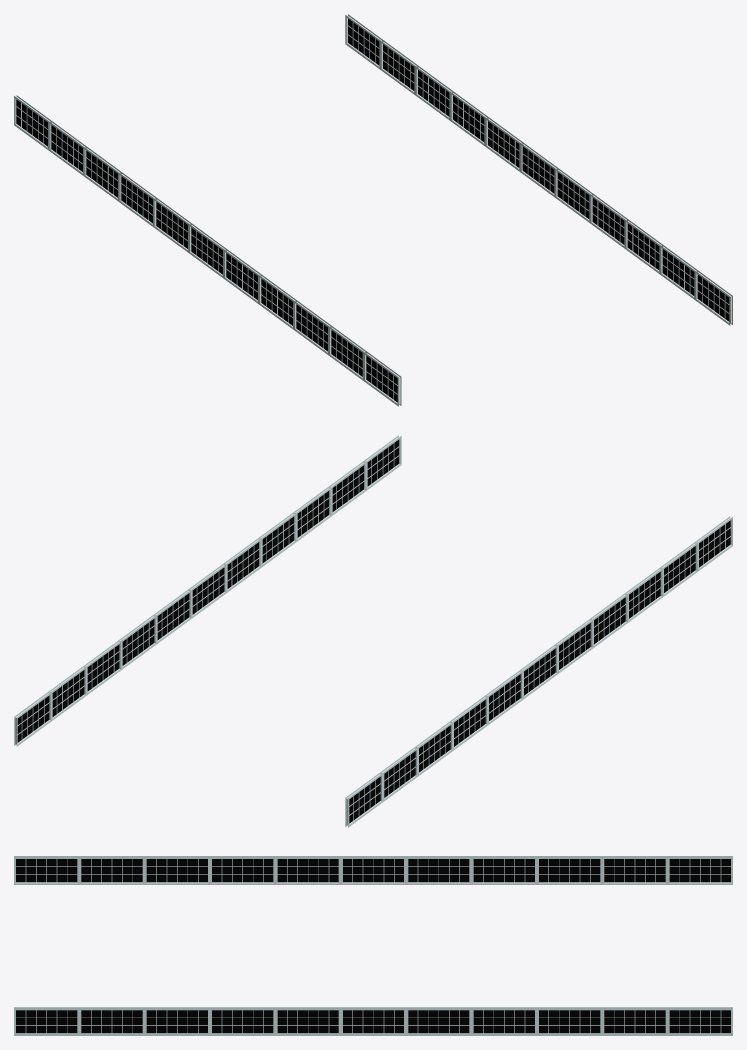
Rendered from FINESTRE_SUL_TETTO.fbx.
The picture shows the model from 3 angles, top to bottom: view 1: azimuth 30°, elevation 25°; view 2: azimuth 150°, elevation 25°; view 3: azimuth 270°, elevation 25°; orthographic projection. The views are drawn at different scales.
Visible parts, largest first — view 1: Factory Wepo Interior_08; view 2: Factory Wepo Interior_08; view 3: Factory Wepo Interior_08.
Part boxes in pixels (x1,y1,x2,y2): Factory Wepo Interior_08: (14,14,732,406); Factory Wepo Interior_08: (14,435,732,827); Factory Wepo Interior_08: (14,856,732,1035).
Size of the model in its own units: 1220 by 103 by 2433.
